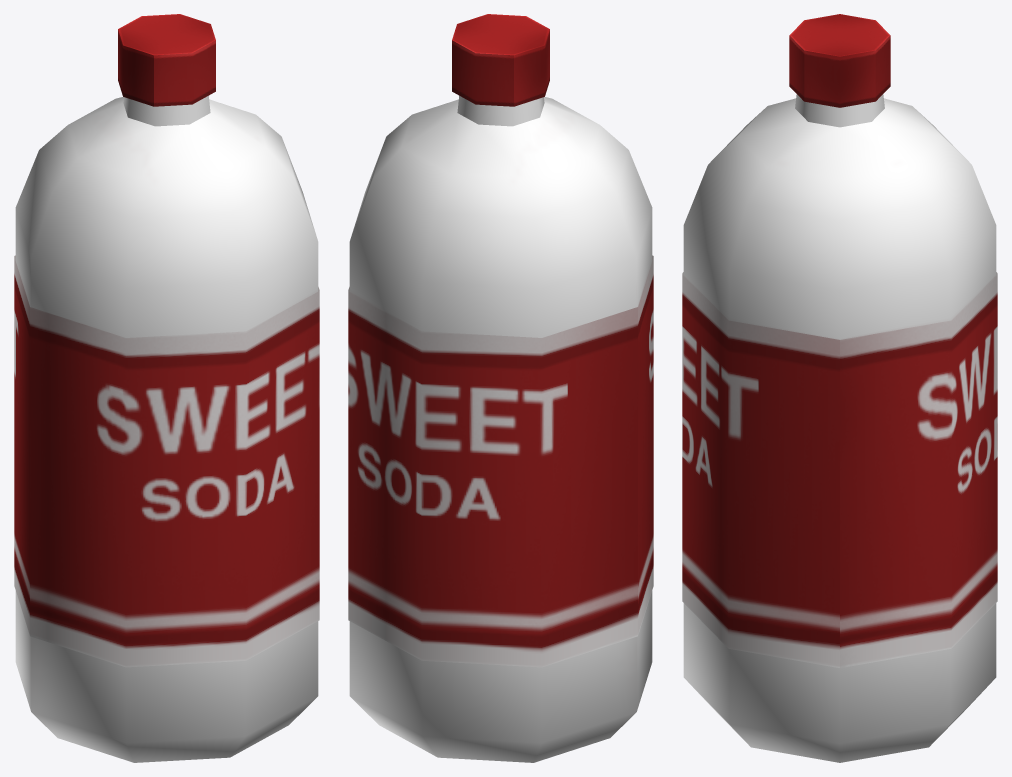
The model's file is coke.FBX.
3 views of the same model, side by side, from view 1: azimuth 30°, elevation 25°; view 2: azimuth 150°, elevation 25°; view 3: azimuth 270°, elevation 25° (orthographic).
Visible parts, largest first — view 1: coke (×2); view 2: coke (×2); view 3: coke (×2).
Part boxes in pixels (x1,y1,x2,y2): coke (×2): (14,14,319,762); coke (×2): (348,14,653,762); coke (×2): (682,14,997,762).
Size of the model in its own units: 4.53 by 10.69 by 4.53.
